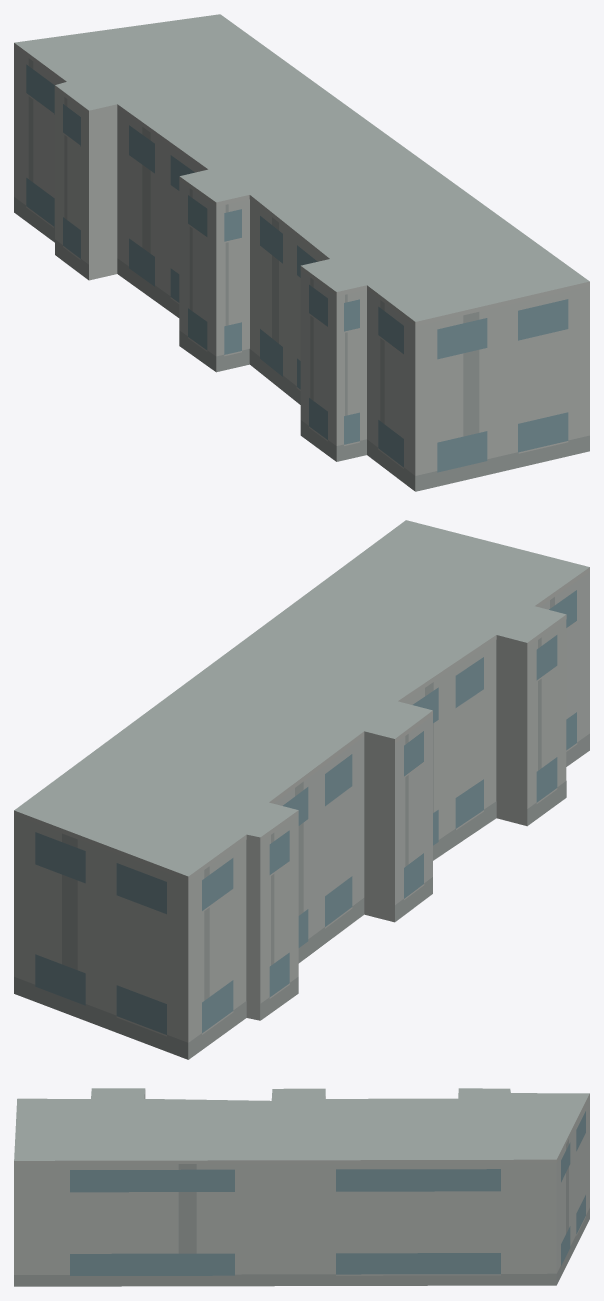
The model's file is survey-upis-32817666.glb.
The picture shows the model from 3 angles, top to bottom: view 1: azimuth 30°, elevation 25°; view 2: azimuth 150°, elevation 25°; view 3: azimuth 270°, elevation 25°; orthographic projection. The views are drawn at different scales.
Parts seen in each view (by area): view 1: survey-upis-32817666.tmp; view 2: survey-upis-32817666.tmp; view 3: survey-upis-32817666.tmp.
Boxes of the visible parts, box(x1,y1,x2,y2) form: survey-upis-32817666.tmp: box(14, 14, 589, 491); survey-upis-32817666.tmp: box(14, 520, 589, 1059); survey-upis-32817666.tmp: box(14, 1088, 589, 1286).
Size of the model in its own units: 11.35 by 9.15 by 37.98.
